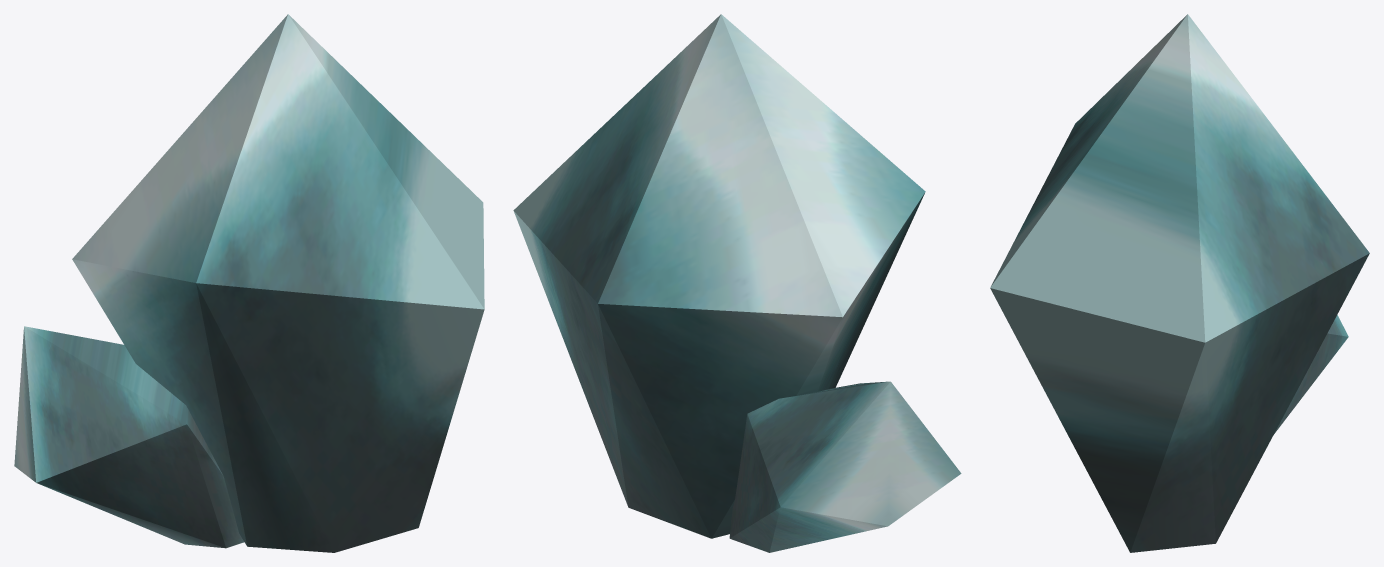
The model's file is IronOre.fbx.
The picture shows the model from 3 angles, left to right: view 1: azimuth 30°, elevation 25°; view 2: azimuth 150°, elevation 25°; view 3: azimuth 270°, elevation 25°; orthographic projection. The views are drawn at different scales.
Parts seen in each view (by area): view 1: Rock; view 2: Rock; view 3: Rock.
Boxes of the visible parts, x1,y1,x2,y2 form: Rock: (14,14,484,552); Rock: (513,14,961,552); Rock: (990,14,1369,552).
Size of the model in its own units: 1.01 by 1.09 by 0.7656.
